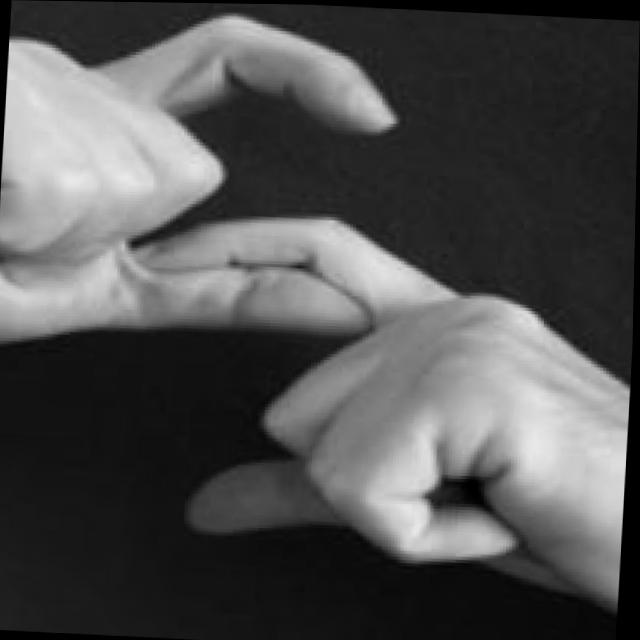S: (0, 0, 640, 616)
